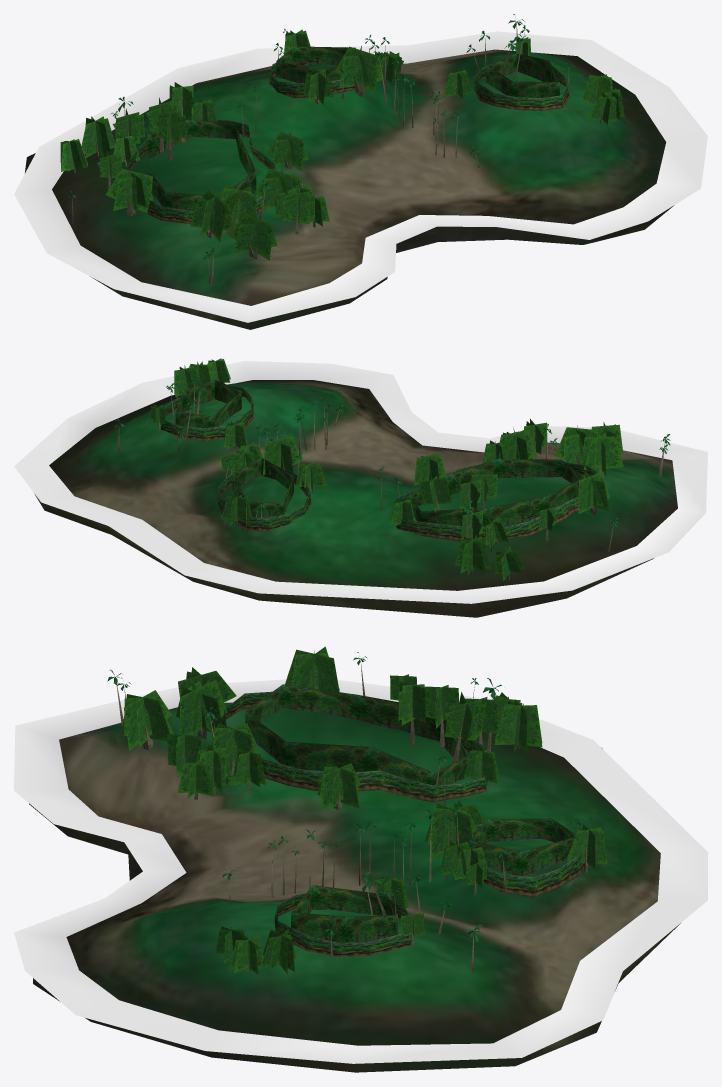
The model's file is pir_m_are_isl_cangrejos_dock_lod.fbx.
3 renders of one model, top to bottom at view 1: azimuth 30°, elevation 25°; view 2: azimuth 150°, elevation 25°; view 3: azimuth 270°, elevation 25°, orthographic. The views are drawn at different scales.
Parts seen in each view (by area): view 1: ground, dock_wave, tree_wall_3, tree_wall_1, tree_wall_2, berm_wall_1, berm_wall_3, berm_wall_2, leaves_2.010, leaves_2.009, leaves_2.012, leaves_2.014 (+5 smaller); view 2: ground, dock_wave, tree_wall_3, berm_wall_3, tree_wall_1, tree_wall_2, berm_wall_2, berm_wall_1, leaves_1.014, leaves_0.005, leaves_1.010, leaves_1.012 (+5 smaller); view 3: ground, dock_wave, tree_wall_3, tree_wall_1, berm_wall_3, tree_wall_2, berm_wall_1, berm_wall_2, leaves_1.013, leaves_1.012, leaves_2.009, leaves_1.009 (+4 smaller).
Part boxes in pixels (box(x1,y1,x2,y2)): ground: box(24, 49, 674, 329); dock_wave: box(14, 31, 707, 322); tree_wall_3: box(147, 119, 256, 211); tree_wall_1: box(486, 53, 559, 98); tree_wall_2: box(276, 46, 355, 83); berm_wall_1: box(474, 66, 569, 110); berm_wall_3: box(127, 119, 275, 224); berm_wall_2: box(269, 63, 355, 97); leaves_2.010: box(334, 46, 377, 93); leaves_2.009: box(229, 214, 273, 260); leaves_2.012: box(105, 169, 152, 213); leaves_2.014: box(193, 189, 227, 241); ground: box(34, 380, 677, 617); dock_wave: box(14, 361, 707, 603); tree_wall_3: box(409, 458, 584, 526); berm_wall_3: box(396, 463, 597, 541); tree_wall_1: box(175, 380, 241, 428); tree_wall_2: box(232, 457, 293, 517); berm_wall_2: box(217, 465, 311, 531); berm_wall_1: box(161, 386, 253, 440); leaves_1.014: box(581, 436, 623, 469); leaves_0.005: box(419, 478, 451, 504); leaves_1.010: box(263, 436, 300, 474); leaves_1.012: box(578, 471, 609, 513); ground: box(29, 702, 680, 1072); dock_wave: box(14, 679, 707, 1063); tree_wall_3: box(245, 684, 469, 785); tree_wall_1: box(291, 885, 397, 942); berm_wall_3: box(221, 691, 487, 802); tree_wall_2: box(470, 818, 576, 876); berm_wall_1: box(274, 893, 415, 956); berm_wall_2: box(476, 823, 584, 897); leaves_1.013: box(180, 680, 227, 734); leaves_1.012: box(285, 649, 339, 692); leaves_2.009: box(124, 690, 171, 751); leaves_1.009: box(122, 694, 169, 741).
Bounding box in the file's own units: 117744 × 16709 × 89347.
3 materials, 3 textured.
